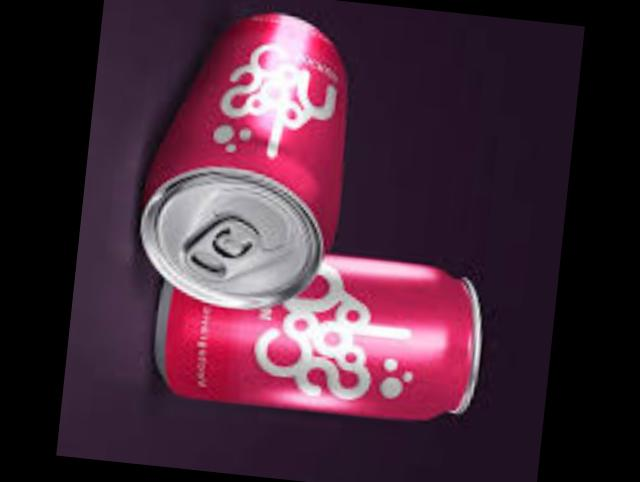metal: (143, 19, 349, 313), (157, 255, 480, 421)
